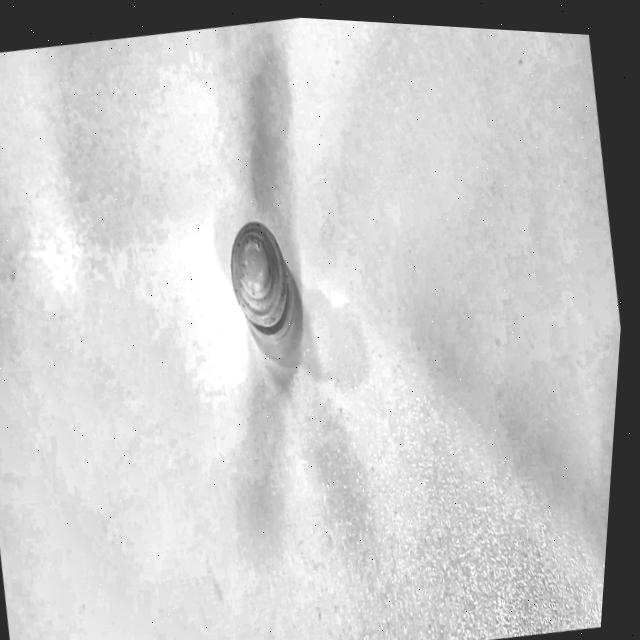white-queen: (151, 165, 353, 460)
